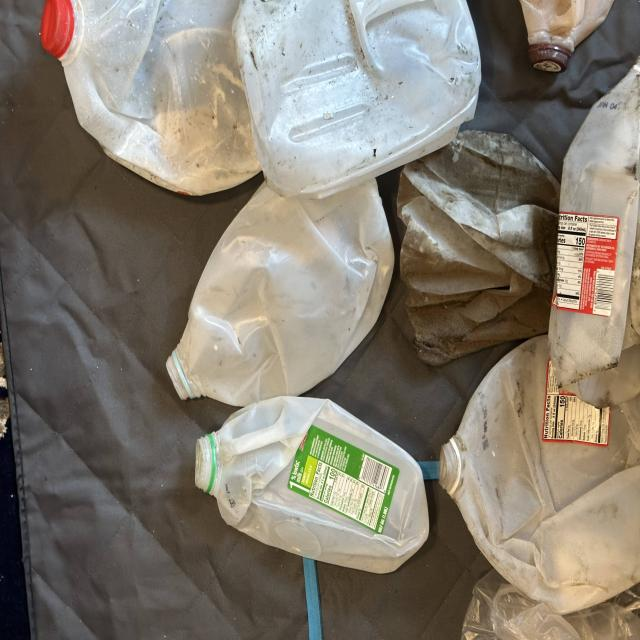milk-jug: (435, 327, 640, 616), (167, 165, 392, 405), (218, 0, 496, 193), (193, 399, 432, 580), (40, 1, 263, 193), (398, 104, 558, 368)
